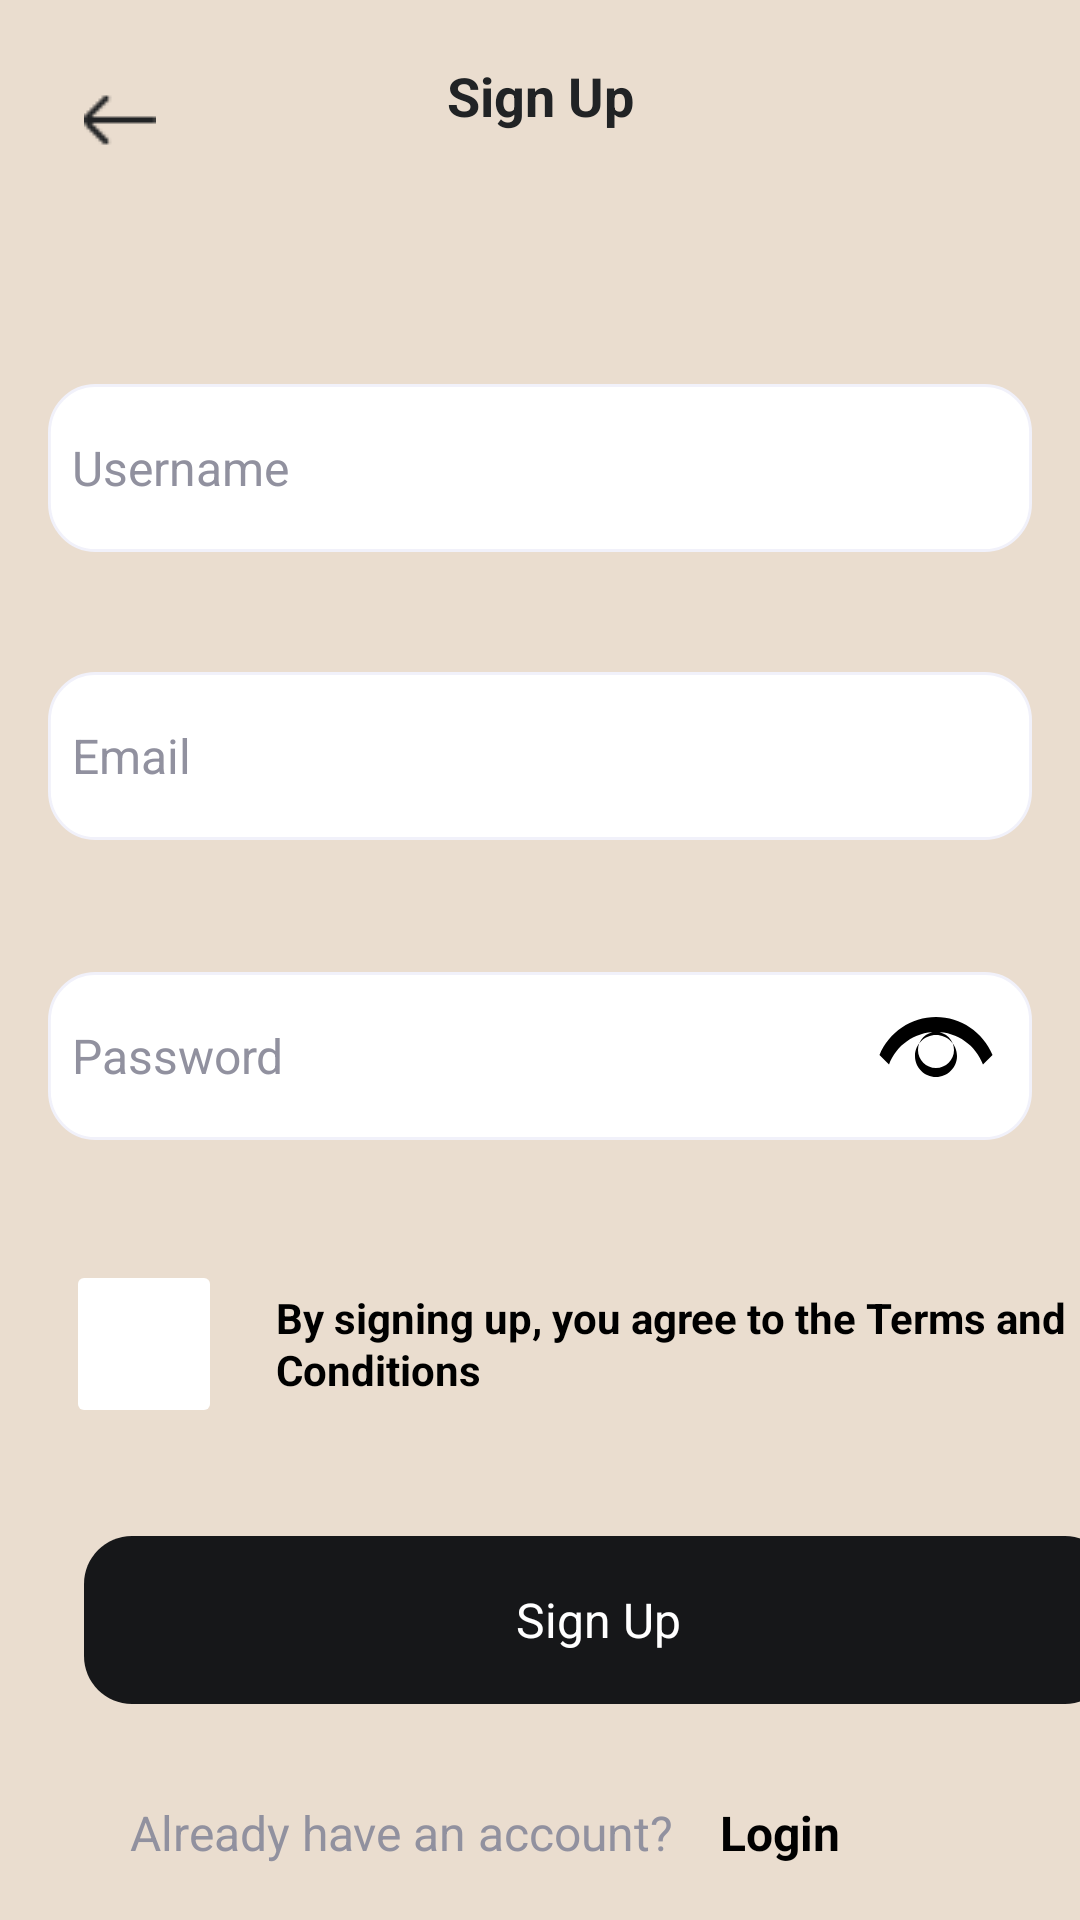

Icon click points for this 1080px x 1920px phone screenshot, format point (x, y):
back arrow: point (120, 120)
eye: point (936, 1047)
